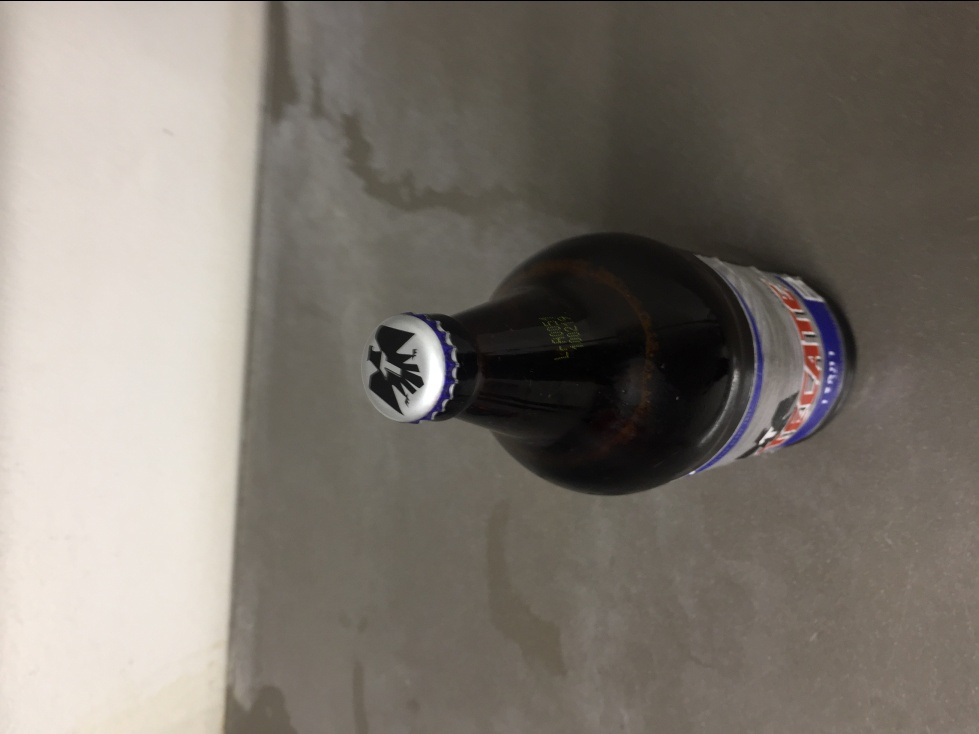tecateC: (362, 232, 856, 498)
